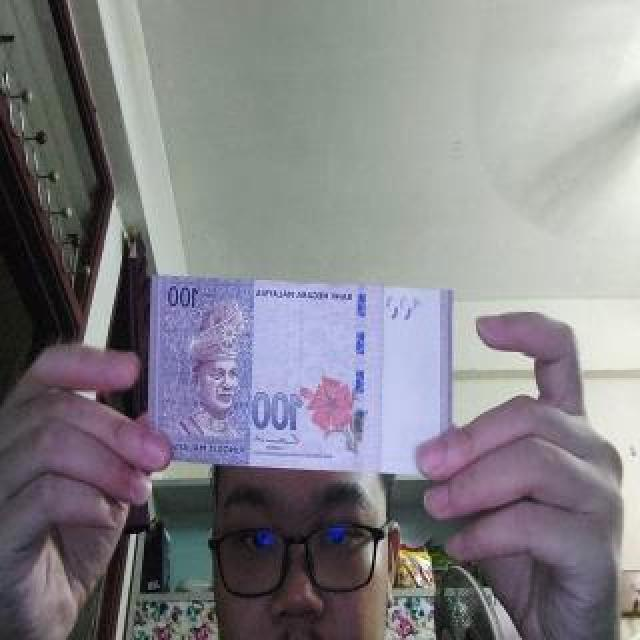100 Ringgit: (134, 276, 467, 484)
